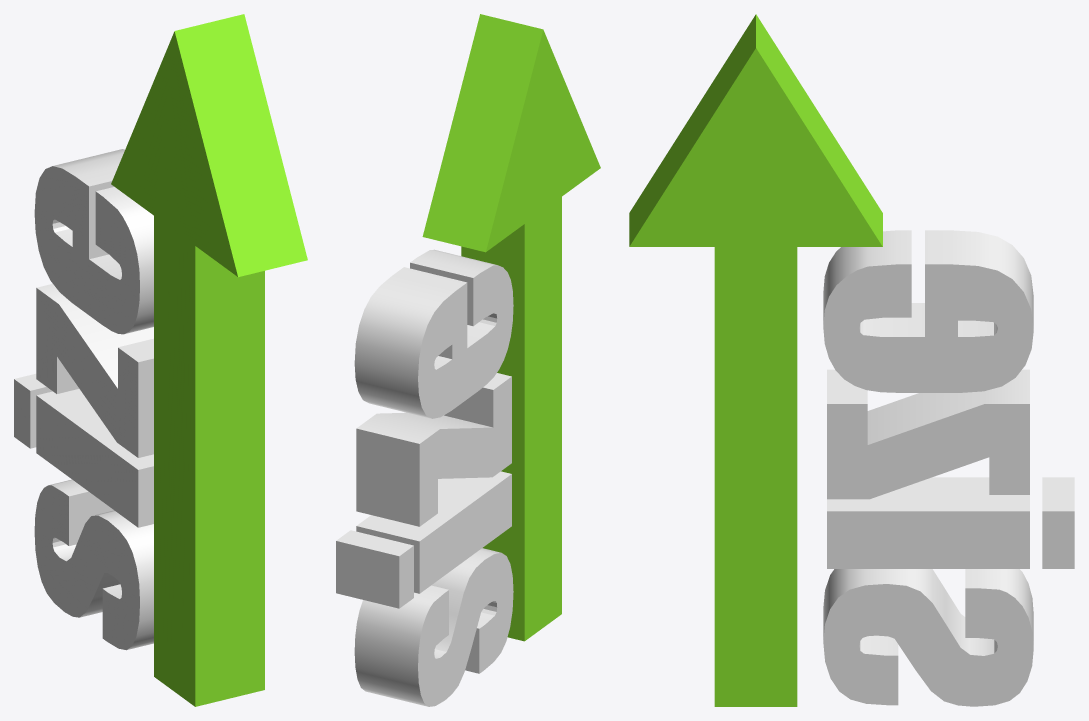
Rendered from size_increase.dae.
The picture shows the model from 3 angles, left to right: view 1: azimuth 30°, elevation 25°; view 2: azimuth 150°, elevation 25°; view 3: azimuth 270°, elevation 25°; orthographic projection. The views are drawn at different scales.
Visible parts, largest first — view 1: SketchUp, size (×5); view 2: size (×5), SketchUp; view 3: size (×5), SketchUp.
Part boxes in pixels (left/top/right/bottom): SketchUp: left=111, top=14, right=307, bottom=706; size (×5): left=14, top=149, right=153, bottom=650; size (×5): left=336, top=249, right=513, bottom=706; SketchUp: left=422, top=14, right=600, bottom=641; size (×5): left=823, top=230, right=1074, bottom=706; SketchUp: left=629, top=14, right=882, bottom=706.
Bounding box in the file's own units: 0.1084 × 0.5946 × 0.9705.
